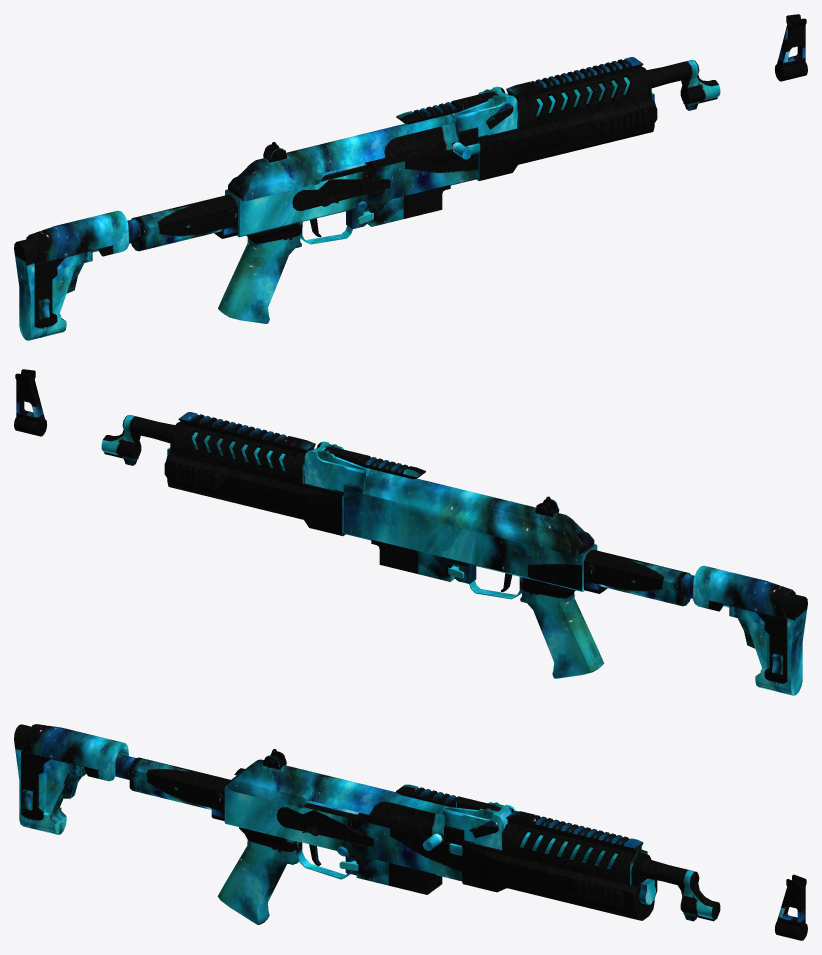
The model's file is assaultriflemk2_al.glb.
The picture shows the model from 3 angles, top to bottom: view 1: azimuth 30°, elevation 25°; view 2: azimuth 150°, elevation 25°; view 3: azimuth 330°, elevation 25°; orthographic projection.
Visible parts, largest first — view 1: Gun_Root; view 2: Gun_Root; view 3: Gun_Root.
Part boxes in pixels (x1=…): Gun_Root: x1=14, y1=14, x2=807, y2=340; Gun_Root: x1=14, y1=369, x2=807, y2=695; Gun_Root: x1=14, y1=724, x2=807, y2=940.
Size of the model in its own units: 0.873 by 0.1873 by 0.0659.
Materials: 2 (2 with a texture image).
